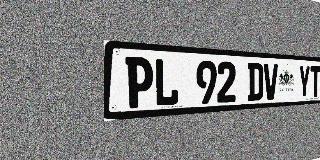2: (217, 61, 235, 103)
9: (196, 60, 217, 104)
D: (248, 63, 263, 101)
L: (154, 58, 179, 107)
P: (125, 57, 153, 108)
T: (310, 66, 320, 97)
V: (264, 63, 278, 100)
Y: (298, 65, 310, 98)
